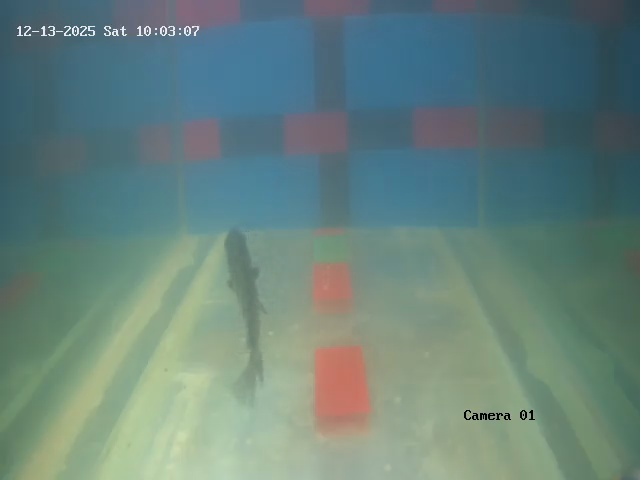fish: (219, 229, 272, 354)
